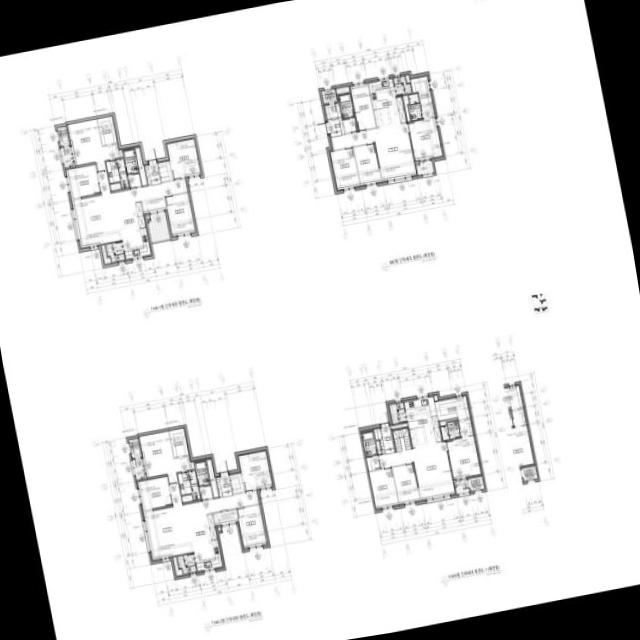background: (0, 0, 640, 640)
space_balconi: (147, 213, 170, 242), (105, 241, 125, 262), (177, 553, 196, 574), (388, 402, 406, 424), (393, 76, 411, 95), (416, 160, 434, 175), (61, 146, 73, 167), (132, 458, 144, 479), (454, 479, 469, 494)
space_bedroom: (67, 119, 120, 171), (139, 431, 191, 483), (446, 419, 481, 479), (408, 104, 442, 161), (166, 138, 201, 179), (238, 450, 272, 491), (165, 192, 196, 236), (236, 504, 267, 548), (330, 147, 360, 189), (137, 476, 172, 510), (369, 467, 398, 508), (353, 143, 381, 185), (66, 164, 100, 198), (392, 463, 420, 504)
space_dressroom: (435, 396, 470, 420), (410, 76, 432, 105), (97, 116, 117, 145), (169, 428, 188, 457)
space_front: (379, 426, 394, 454), (216, 473, 233, 497), (325, 117, 344, 137), (144, 163, 161, 185)
space_kitchen: (187, 514, 222, 571), (116, 202, 150, 259), (404, 396, 441, 447), (368, 79, 406, 127)
space_living_room: (72, 171, 188, 248), (143, 483, 259, 559), (331, 123, 416, 181), (379, 441, 455, 500)
space_other: (350, 83, 376, 130), (206, 459, 219, 497), (135, 147, 147, 185), (392, 428, 411, 452), (141, 196, 166, 213), (213, 509, 238, 525), (229, 472, 244, 493), (158, 161, 172, 181), (324, 103, 341, 119), (343, 118, 357, 133), (127, 173, 141, 188), (199, 485, 213, 500), (100, 245, 111, 264), (366, 456, 380, 470), (403, 95, 410, 121), (173, 556, 182, 575), (439, 418, 457, 426), (373, 427, 381, 440), (391, 423, 407, 429), (336, 87, 349, 94), (376, 441, 381, 454), (405, 75, 409, 82), (191, 461, 194, 469), (119, 149, 122, 157), (434, 395, 437, 400), (146, 215, 149, 219), (218, 527, 221, 531)
space_outdoor_room: (128, 438, 141, 458), (321, 88, 337, 103), (57, 126, 69, 146), (468, 476, 484, 491)
space_toilet: (105, 158, 128, 190), (177, 470, 200, 502), (194, 461, 210, 487), (338, 93, 354, 118), (361, 431, 377, 456), (408, 93, 422, 120), (123, 149, 138, 174), (441, 421, 460, 440)
